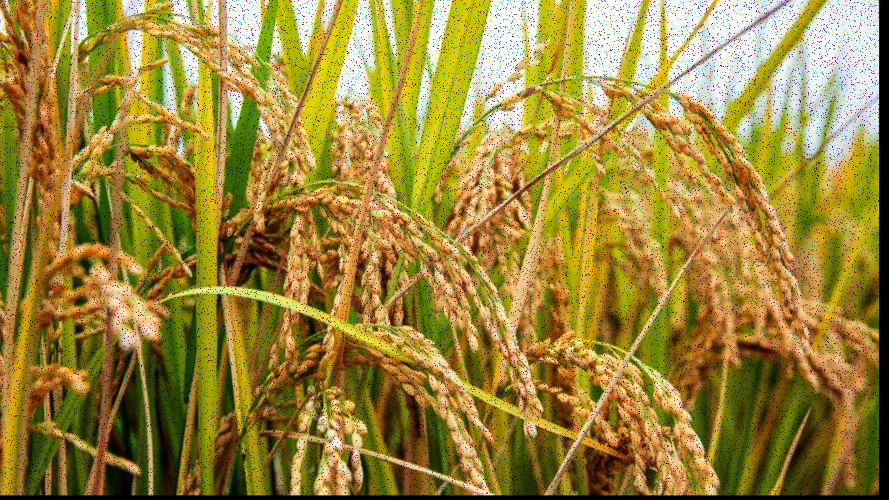rice: (539, 67, 824, 344), (209, 172, 487, 336), (251, 318, 490, 488), (80, 14, 325, 173), (497, 334, 718, 491)
